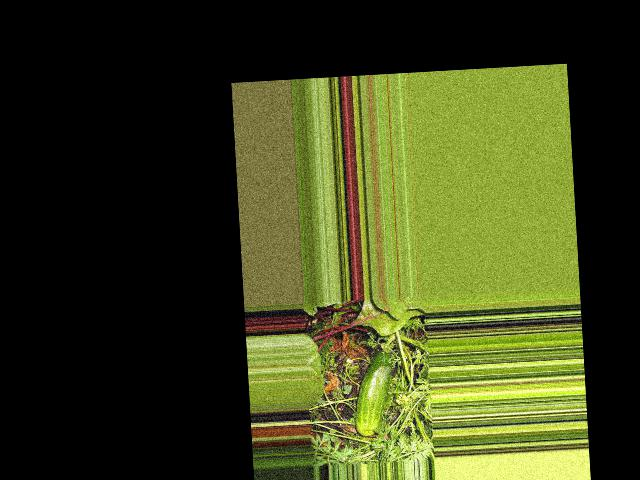cucumber: (351, 348, 397, 435)
